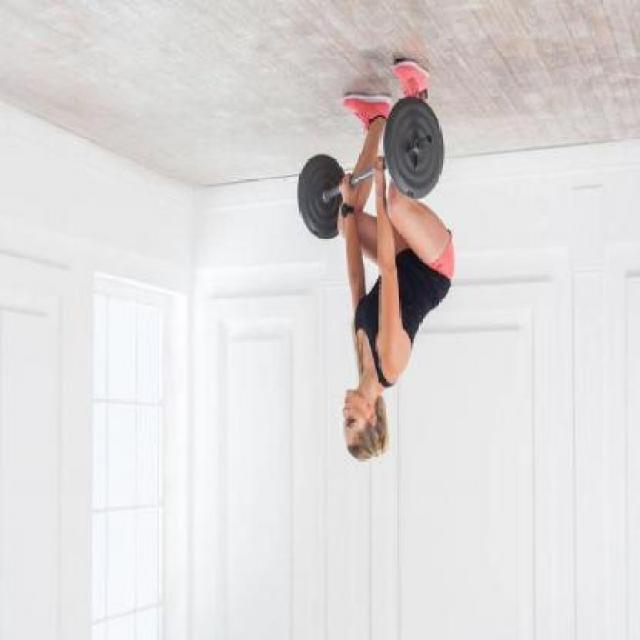Barbell: (424, 128, 436, 147)
